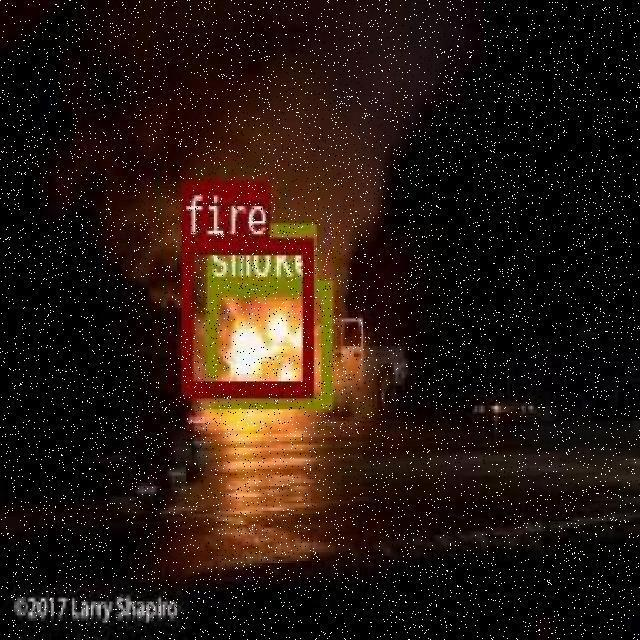Smoke: (206, 310, 329, 374)
